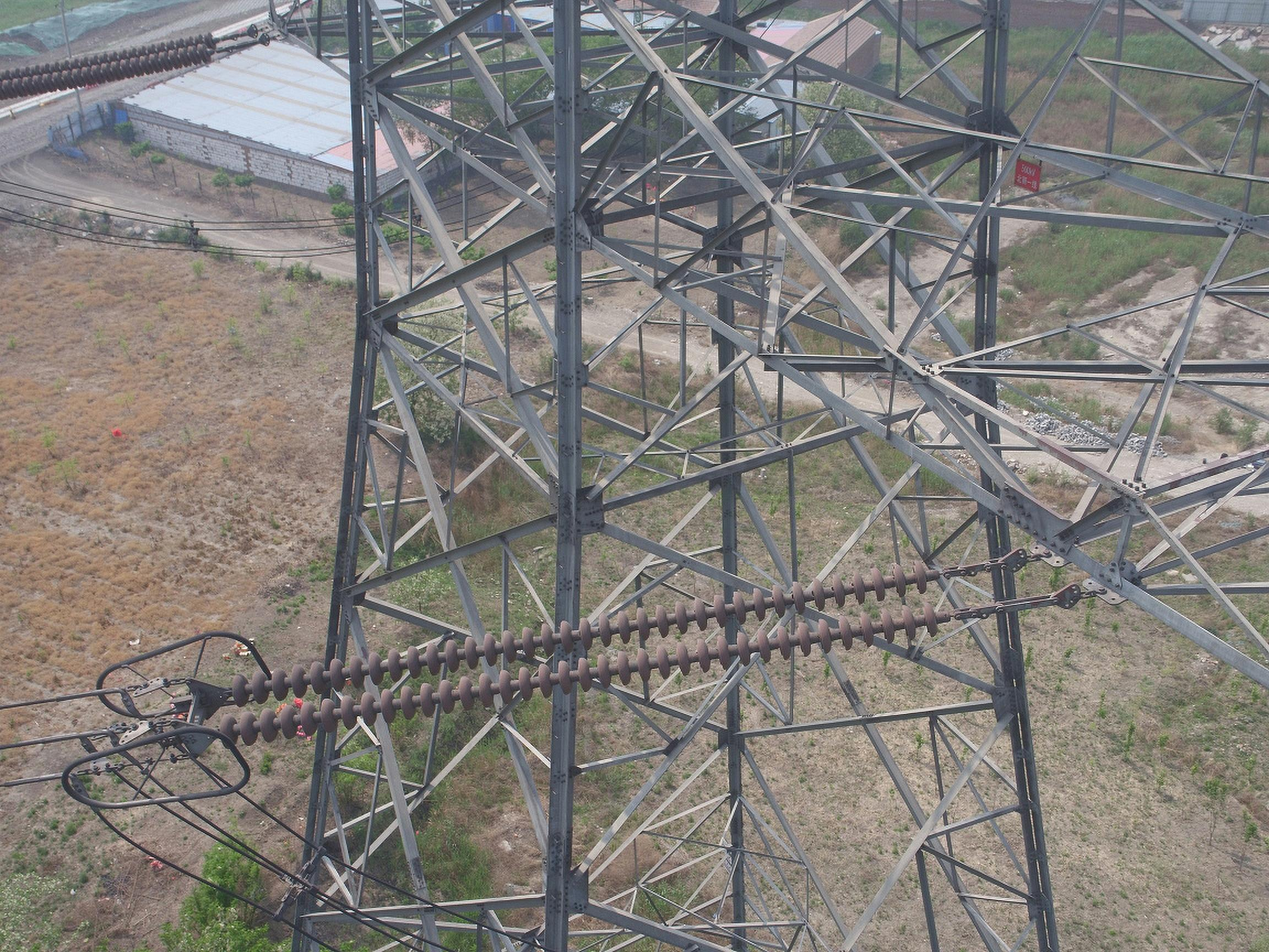insulator: (216, 559, 941, 750), (1, 30, 216, 102)
